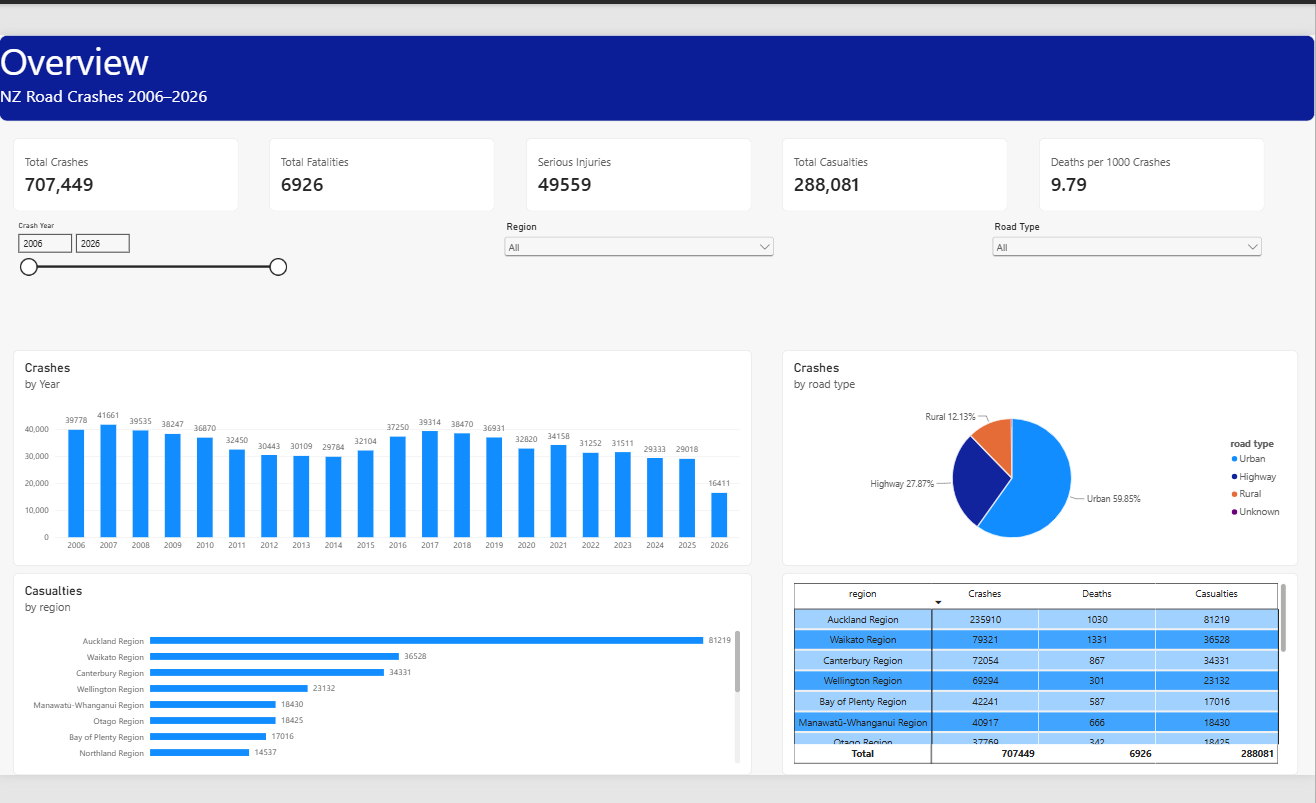

The dashboard page shown, as its layout file describes it:
{"tool":"powerbi","page":{"name":"Overview","canvas":[1920,1080],"ordinal":0},"visuals":[{"type":"textbox","box":[0,0,1920.4,125.6],"z":0},{"type":"cardVisual","fields":{"Data":["dbt fct_nz_traffic_crash.Total Crashes"]},"box":[20.6,150.3,329,107],"z":1000},{"type":"cardVisual","fields":{"Data":["Sum(dbt fct_nz_traffic_crash.fatal_count)"]},"box":[394.6,150.3,329.3,107],"z":2000},{"type":"cardVisual","fields":{"Data":["Sum(dbt fct_nz_traffic_crash.serious_injury_count)"]},"box":[769,150.3,329,107],"z":3000},{"type":"cardVisual","fields":{"Data":["Sum(dbt fct_nz_traffic_crash.total_casualties)"]},"box":[1143,150.3,329,107],"z":4000},{"type":"cardVisual","fields":{"Data":["dbt fct_nz_traffic_crash.Deaths per 1000 Crashes"]},"box":[1517,150.3,329,107],"z":5000},{"type":"slicer","fields":{"Values":["dbt fct_nz_traffic_crash.crash_year"]},"box":[20.4,271.4,403.4,96.7],"z":6000},{"type":"slicer","fields":{"Values":["dbt fct_nz_traffic_crash.region"]},"box":[732.4,271.4,402.7,96.3],"z":7000},{"type":"slicer","fields":{"Values":["dbt fct_nz_traffic_crash.road_type"]},"box":[1444.4,271.4,402.7,96.3],"z":8000},{"type":"columnChart","fields":{"Category":["dbt fct_nz_traffic_crash.crash_year"],"Y":["CountNonNull(dbt fct_nz_traffic_crash.crash_id)"]},"box":[20.4,459.6,1078.2,315.1],"z":9000},{"type":"pieChart","fields":{"Category":["dbt fct_nz_traffic_crash.road_type"],"Y":["Sum(dbt fct_nz_traffic_crash.crash_id)"]},"box":[1142.4,459.6,752.8,315.1],"z":10000},{"type":"clusteredBarChart","fields":{"Category":["dbt fct_nz_traffic_crash.region"],"Y":["Sum(dbt fct_nz_traffic_crash.total_casualties)"]},"box":[20,785,1078,295],"z":11000},{"type":"pivotTable","fields":{"Rows":["dbt fct_nz_traffic_crash.region"],"Values":["CountNonNull(dbt fct_nz_traffic_crash.crash_id)","Sum(dbt fct_nz_traffic_crash.fatal_count)","Sum(dbt fct_nz_traffic_crash.total_casualties)"]},"box":[1142.5,785,753,295],"z":12000}]}

Visuals, with their boxes on the page's 1920x1080 design canvas (x1, y1, x2, y2). These are canvas units, not pixel positions in the 1316x803 screenshot, which may show the page scaled, cropped or inside an application window:
textbox: [left=0, top=0, right=1920, bottom=126]
cardVisual - dbt fct_nz_traffic_crash.Total Crashes: [left=21, top=150, right=350, bottom=257]
cardVisual - Sum(dbt fct_nz_traffic_crash.fatal_count): [left=395, top=150, right=724, bottom=257]
cardVisual - Sum(dbt fct_nz_traffic_crash.serious_injury_count): [left=769, top=150, right=1098, bottom=257]
cardVisual - Sum(dbt fct_nz_traffic_crash.total_casualties): [left=1143, top=150, right=1472, bottom=257]
cardVisual - dbt fct_nz_traffic_crash.Deaths per 1000 Crashes: [left=1517, top=150, right=1846, bottom=257]
slicer - dbt fct_nz_traffic_crash.crash_year: [left=20, top=271, right=424, bottom=368]
slicer - dbt fct_nz_traffic_crash.region: [left=732, top=271, right=1135, bottom=368]
slicer - dbt fct_nz_traffic_crash.road_type: [left=1444, top=271, right=1847, bottom=368]
columnChart - dbt fct_nz_traffic_crash.crash_year x CountNonNull(dbt fct_nz_traffic_crash.crash_id): [left=20, top=460, right=1099, bottom=775]
pieChart - dbt fct_nz_traffic_crash.road_type x Sum(dbt fct_nz_traffic_crash.crash_id): [left=1142, top=460, right=1895, bottom=775]
clusteredBarChart - dbt fct_nz_traffic_crash.region x Sum(dbt fct_nz_traffic_crash.total_casualties): [left=20, top=785, right=1098, bottom=1080]
pivotTable - dbt fct_nz_traffic_crash.region x CountNonNull(dbt fct_nz_traffic_crash.crash_id): [left=1142, top=785, right=1896, bottom=1080]
